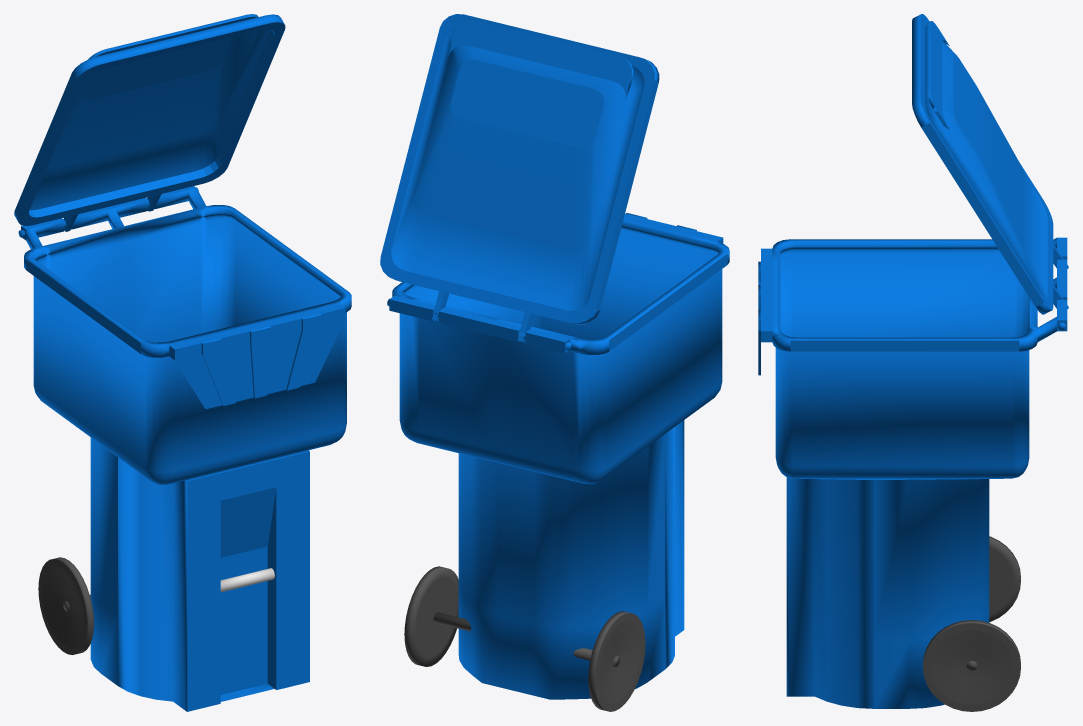
File: trash_blue.glb
3 views of the same model, side by side, from view 1: azimuth 30°, elevation 25°; view 2: azimuth 150°, elevation 25°; view 3: azimuth 270°, elevation 25° (orthographic). The views are drawn at different scales.
Parts seen in each view (by area): view 1: Blue Trash Cart, Blue Lid; view 2: Blue Trash Cart, Blue Lid; view 3: Blue Trash Cart, Blue Lid.
Part boxes in pixels (bbox=[...]): Blue Trash Cart: bbox=[18, 186, 351, 711]; Blue Lid: bbox=[14, 14, 285, 231]; Blue Trash Cart: bbox=[387, 213, 729, 711]; Blue Lid: bbox=[380, 14, 659, 342]; Blue Trash Cart: bbox=[758, 237, 1067, 711]; Blue Lid: bbox=[912, 14, 1068, 314].
Size of the model in its own units: 2.6 by 7.25 by 3.34.
